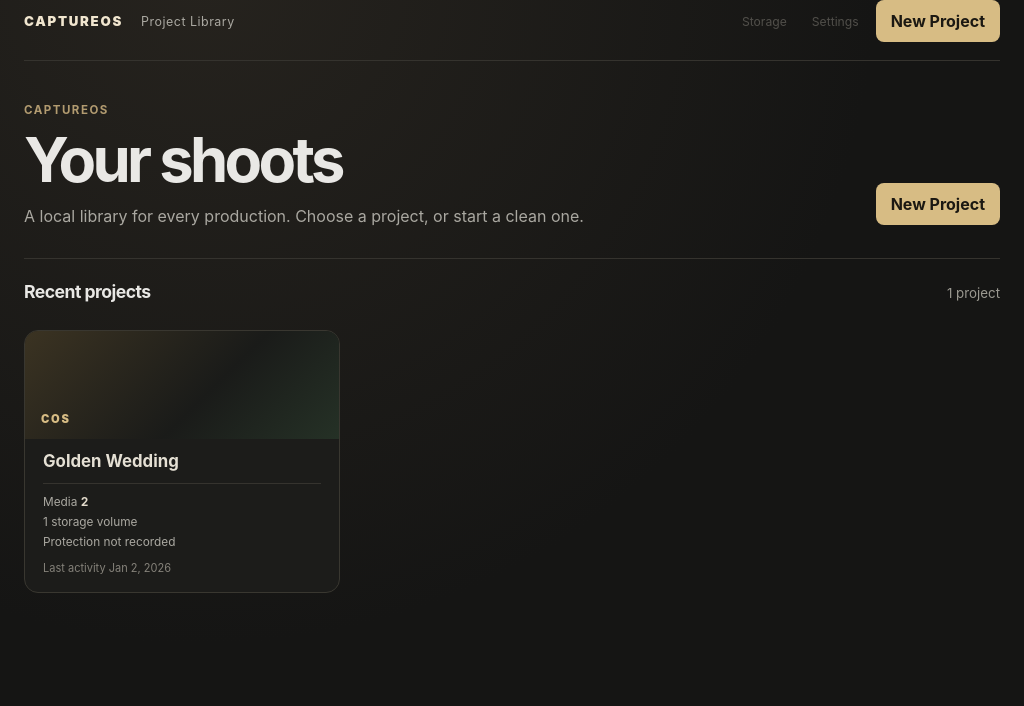
Test: CaptureOS application shell and local media engine › labels a semantic score as a local ranking signal rather than confidence
Step 1. Click the button with aria-label "Open Golden Wedding" → (182, 385), box [24, 330, 340, 593]
(page scrolled)
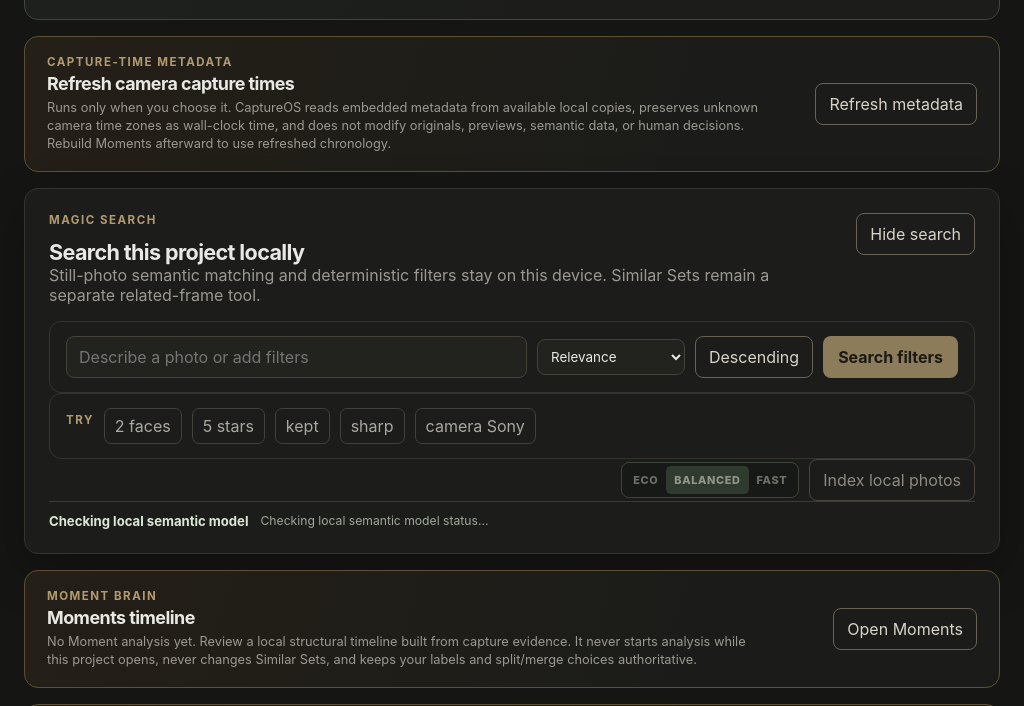
Step 2. Type "local scene" into the field named "Magic Search this project" → (296, 357), box [66, 336, 527, 378]
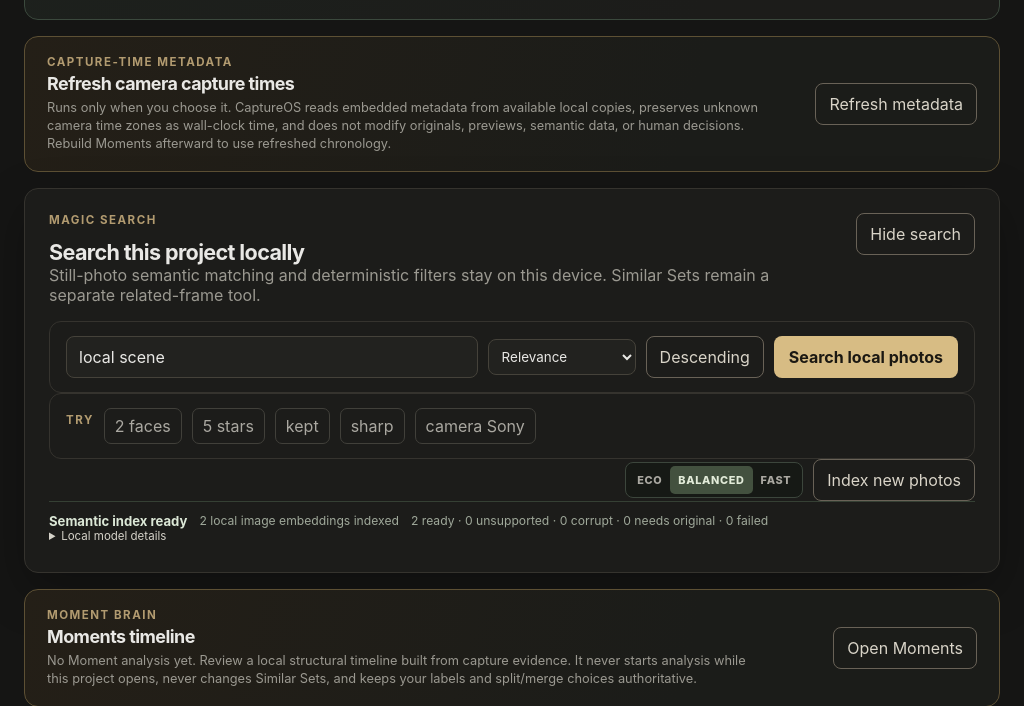
Step 3. Click the button "Search local photos" → (866, 357), box [774, 336, 958, 378]
(page scrolled)
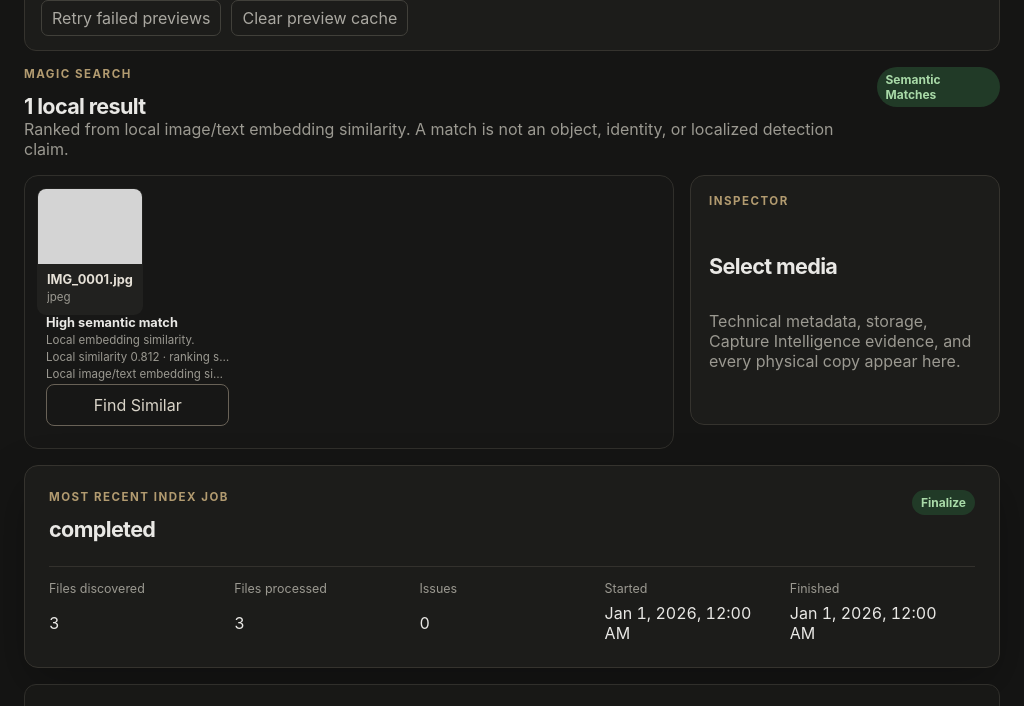
Check: the text "Local similarity 0.812 · ranking signal only, not confidence or proof of an object, person, or identity." is shown, box [46, 350, 229, 364]
